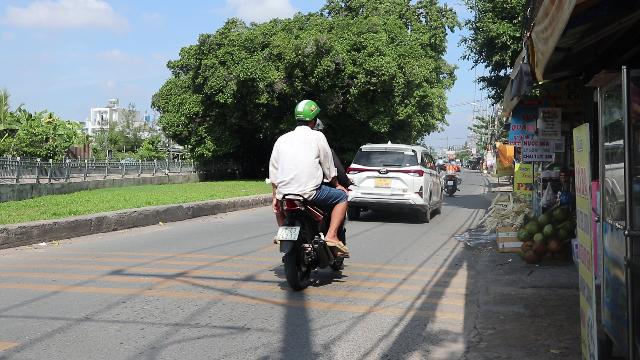helmet: (292, 99, 320, 129)
licenseplate: (276, 226, 300, 240)
motorcyclist: (264, 98, 354, 292)
